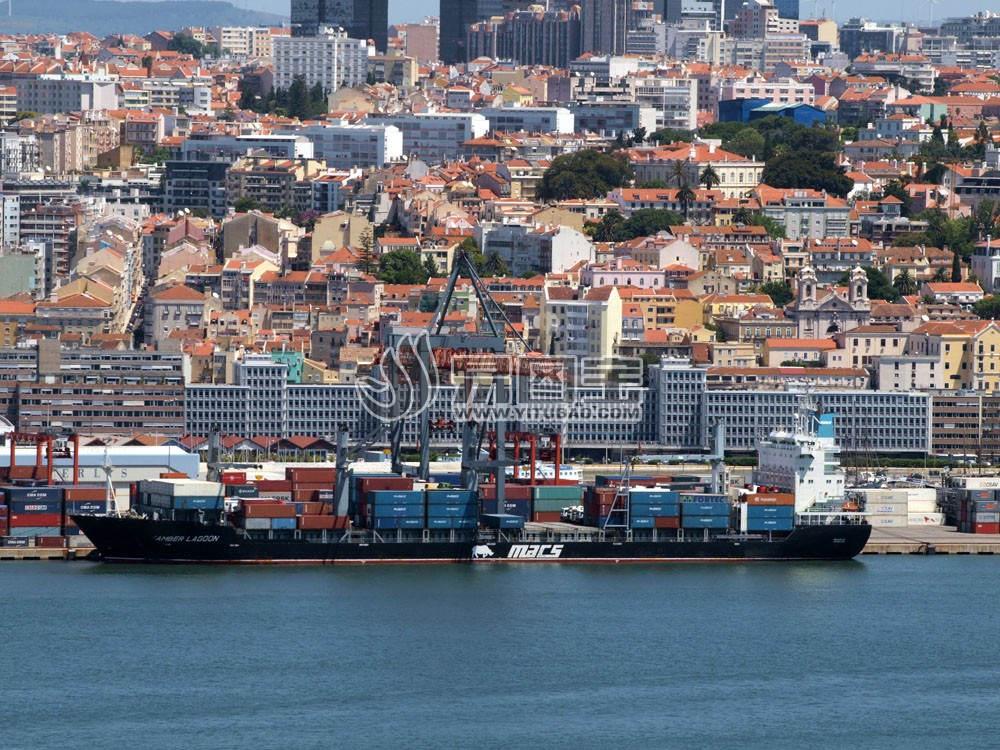Cargoship: (59, 423, 874, 571)
